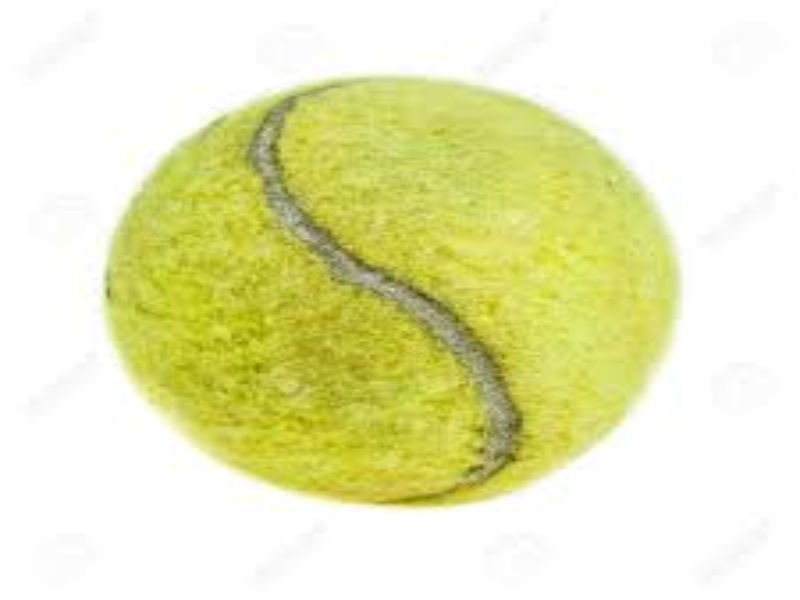tennis ball: (83, 62, 691, 504)
